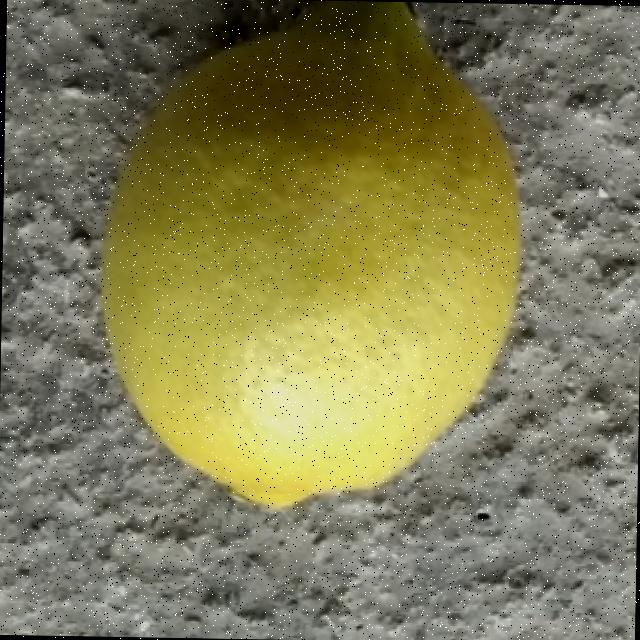Lemon: (94, 0, 528, 515)
